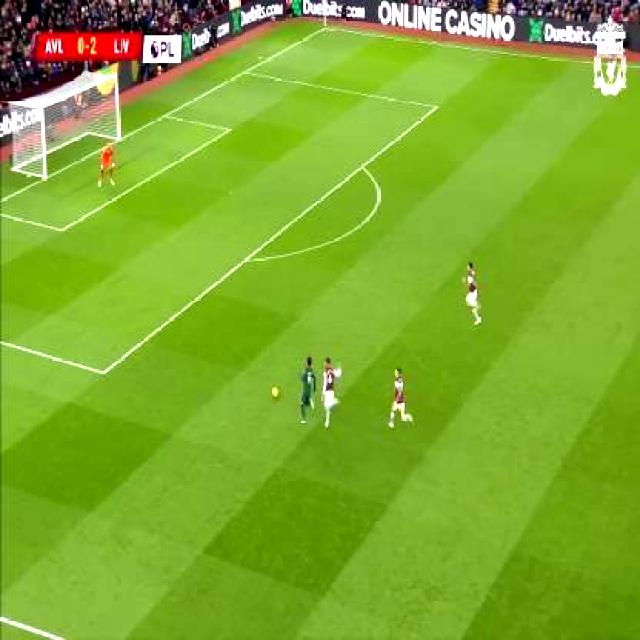bigarea_bottom_inner: (98, 366, 110, 380)
bigarea_top_inner: (432, 100, 442, 115)
bigarea_top_outter: (242, 68, 250, 77)
bottom_arc_area_intersection: (243, 252, 251, 266)
corner: (322, 25, 332, 32)
smallarea_bottom_inner: (57, 223, 66, 239)
smallarea_top_outter: (223, 123, 235, 137), (162, 109, 170, 122)
top_arc_area_intersection: (358, 160, 368, 175)
